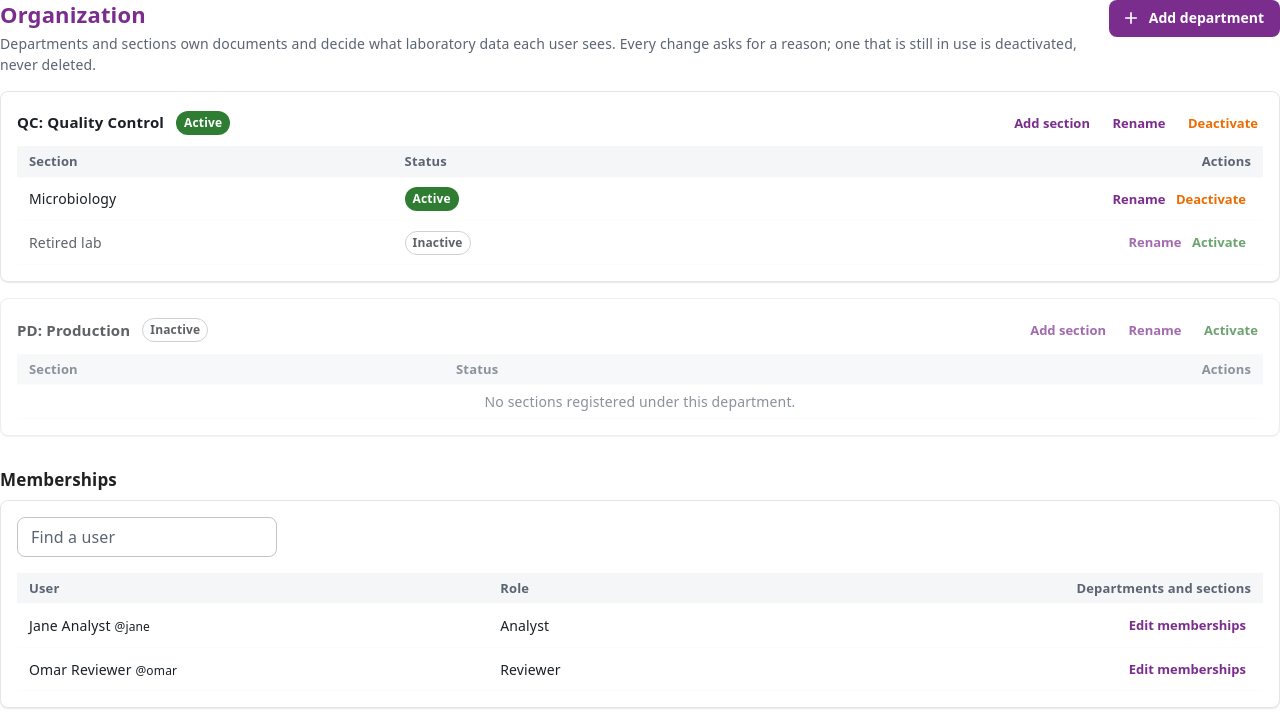
Scenario: OrganizationPage › shows the server's message when a change is refused
Expected: the heading "QC: Quality Control" is shown, [17,112,164,134]
Click the button "Add department". click: (1194, 18)
box: [1109,0,1279,36]
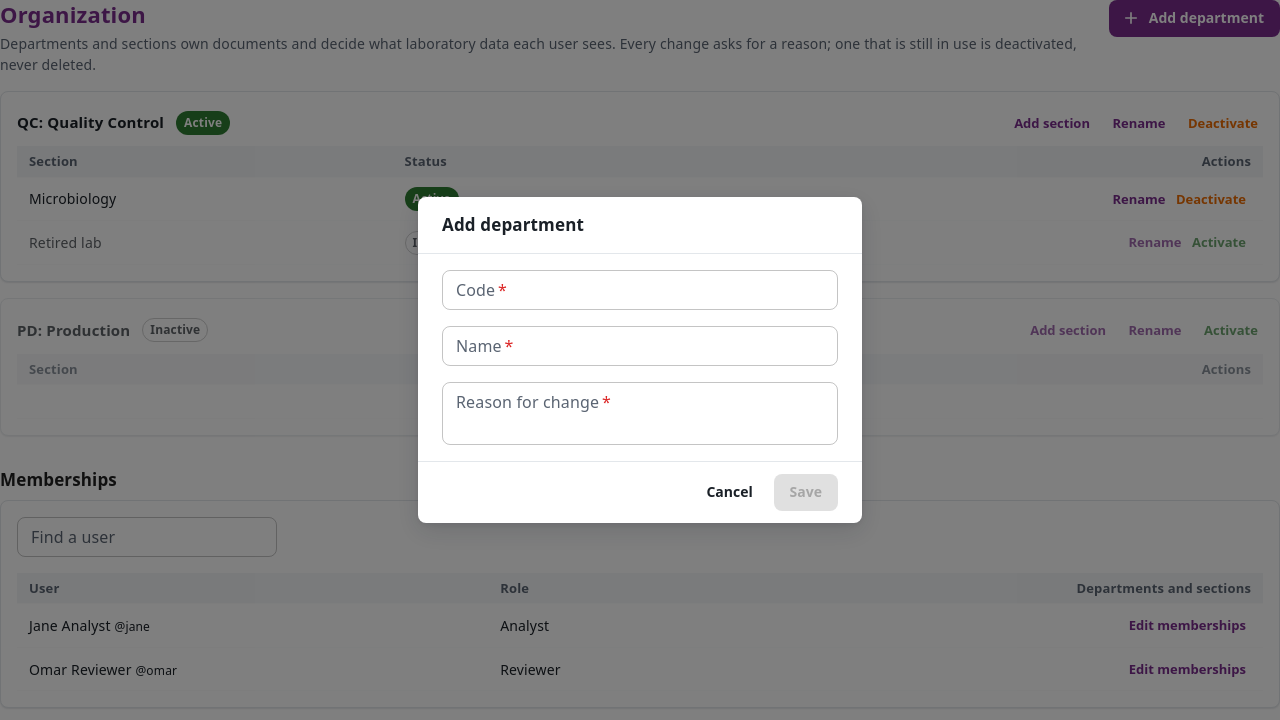
Type "MB" into the field labelled "Code *". click: (640, 290)
box: [442,270,838,310]
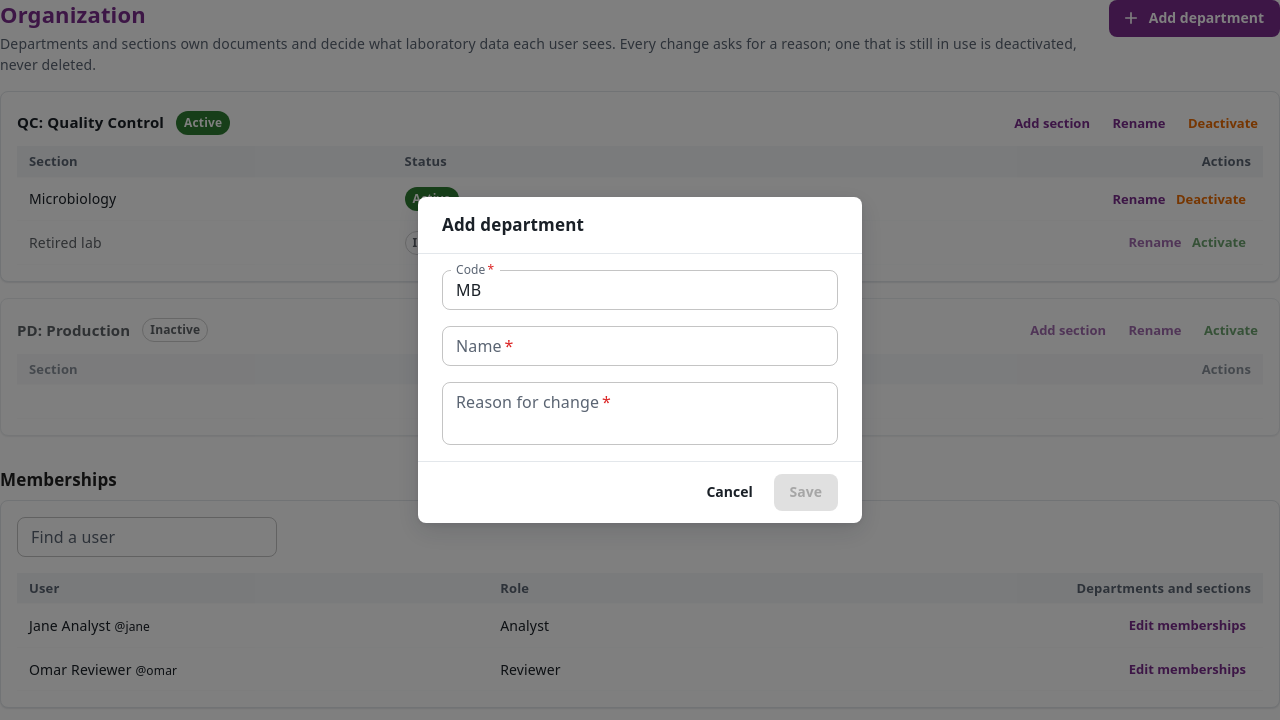
Type "Microbiology" into the field labelled "Name *". click: (640, 346)
box: [442,326,838,366]
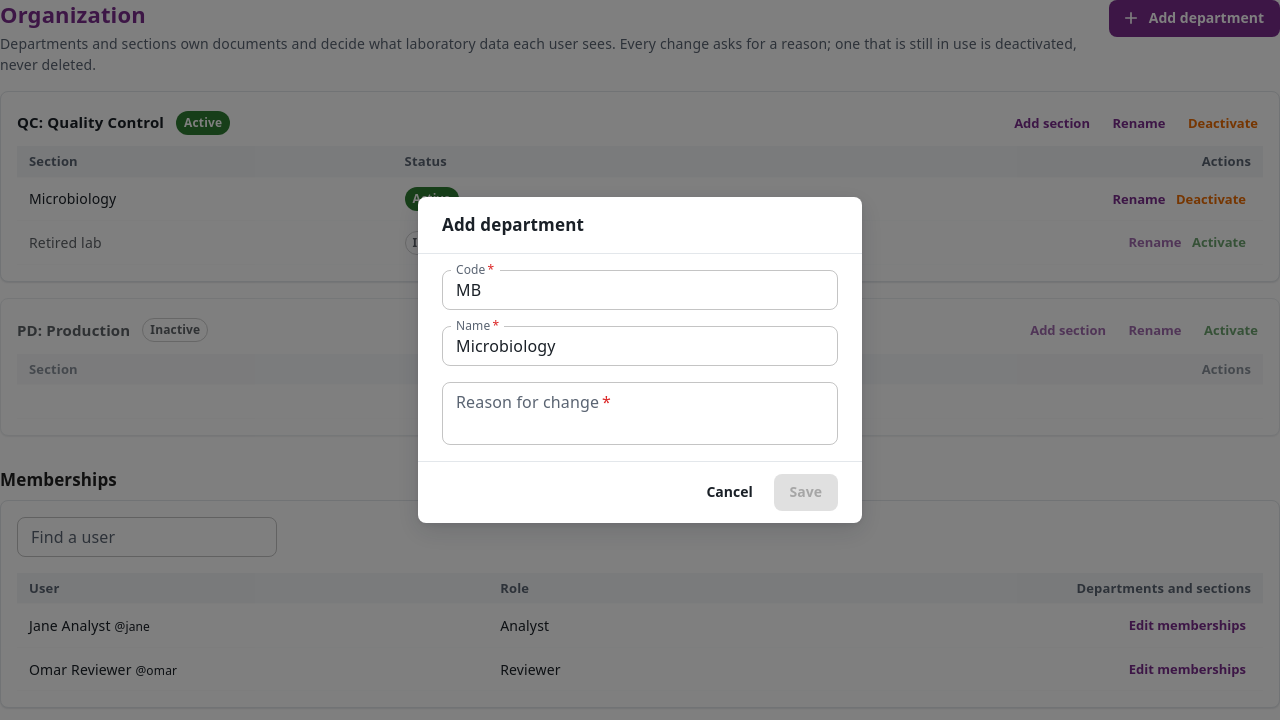
Type "Reorganisation approved" into the text box labelled "Reason for change *". click: (640, 414)
box: [456,391,824,437]
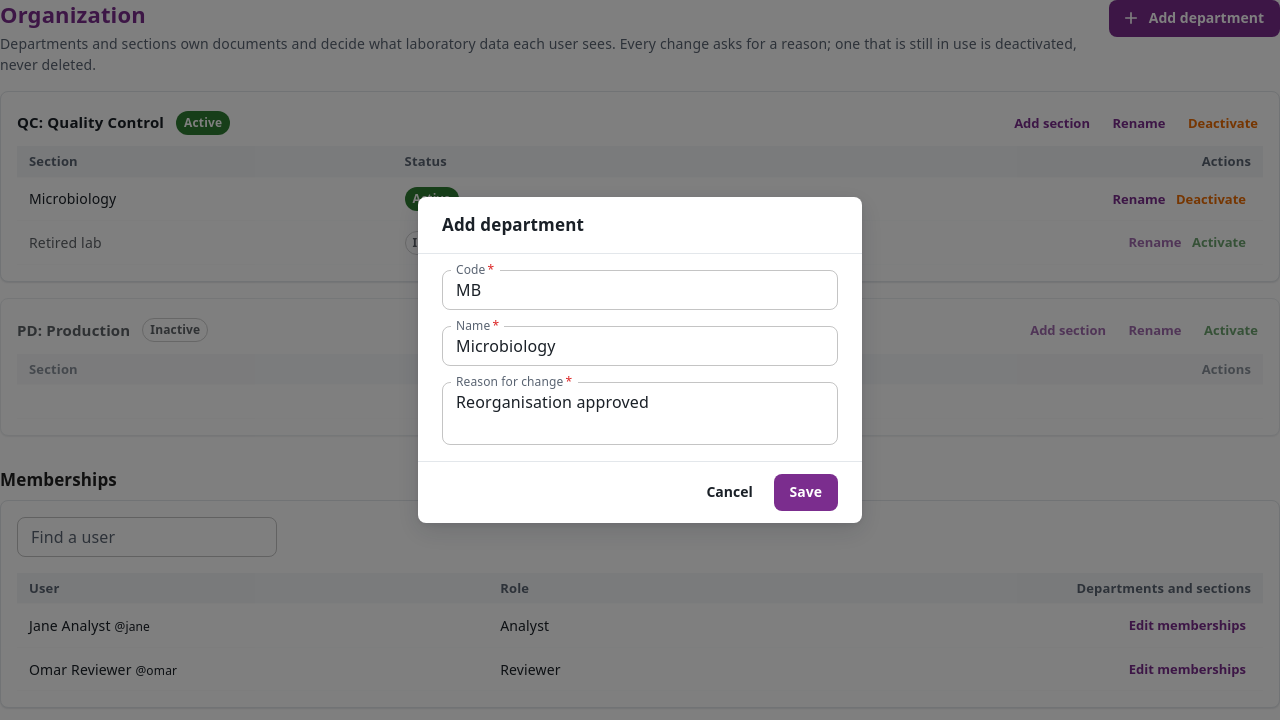
Click the button "Save". click: (806, 492)
box: [774,474,838,511]
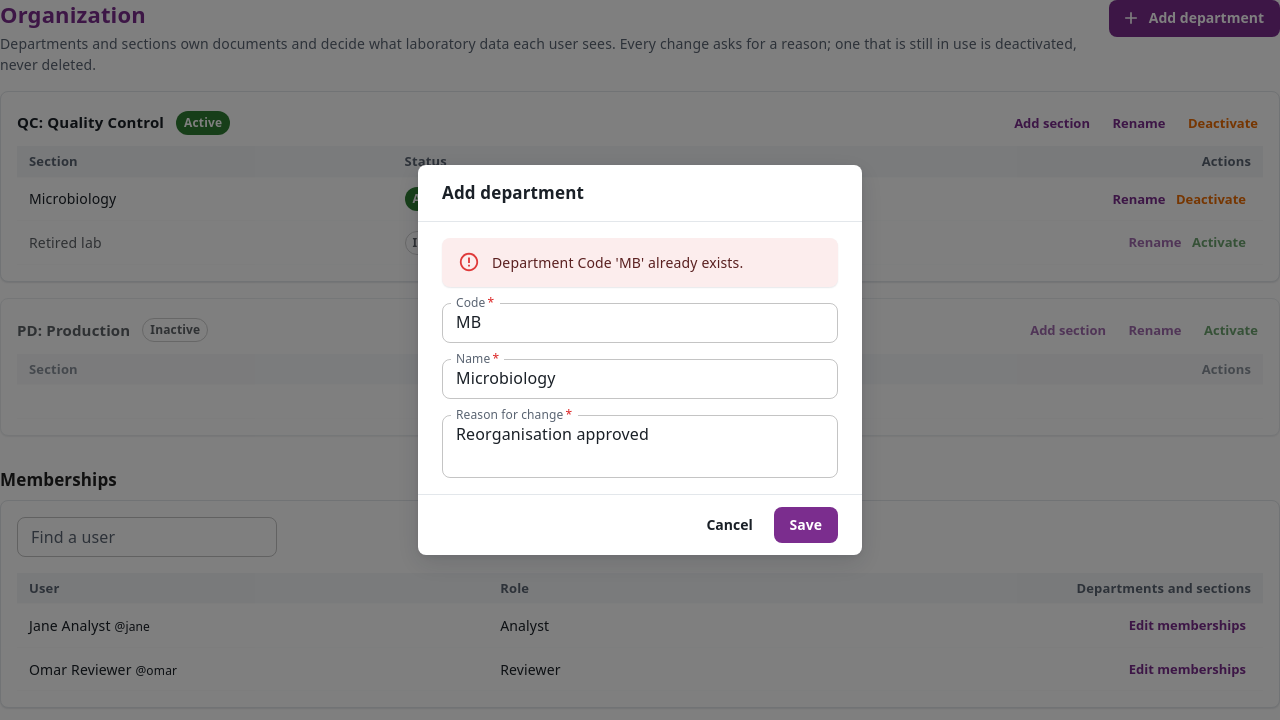
Expected: the text "Department Code 'MB' already exists." is shown, [492,253,743,272]
